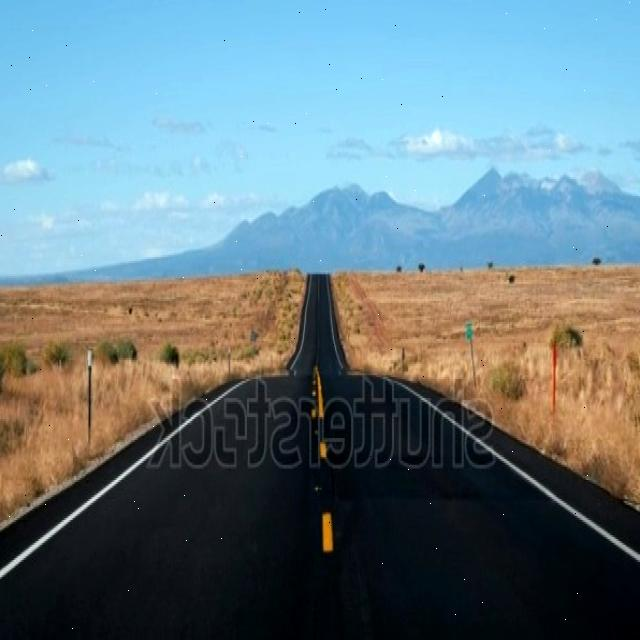lane: (323, 512, 334, 550)
road: (1, 274, 640, 636)
